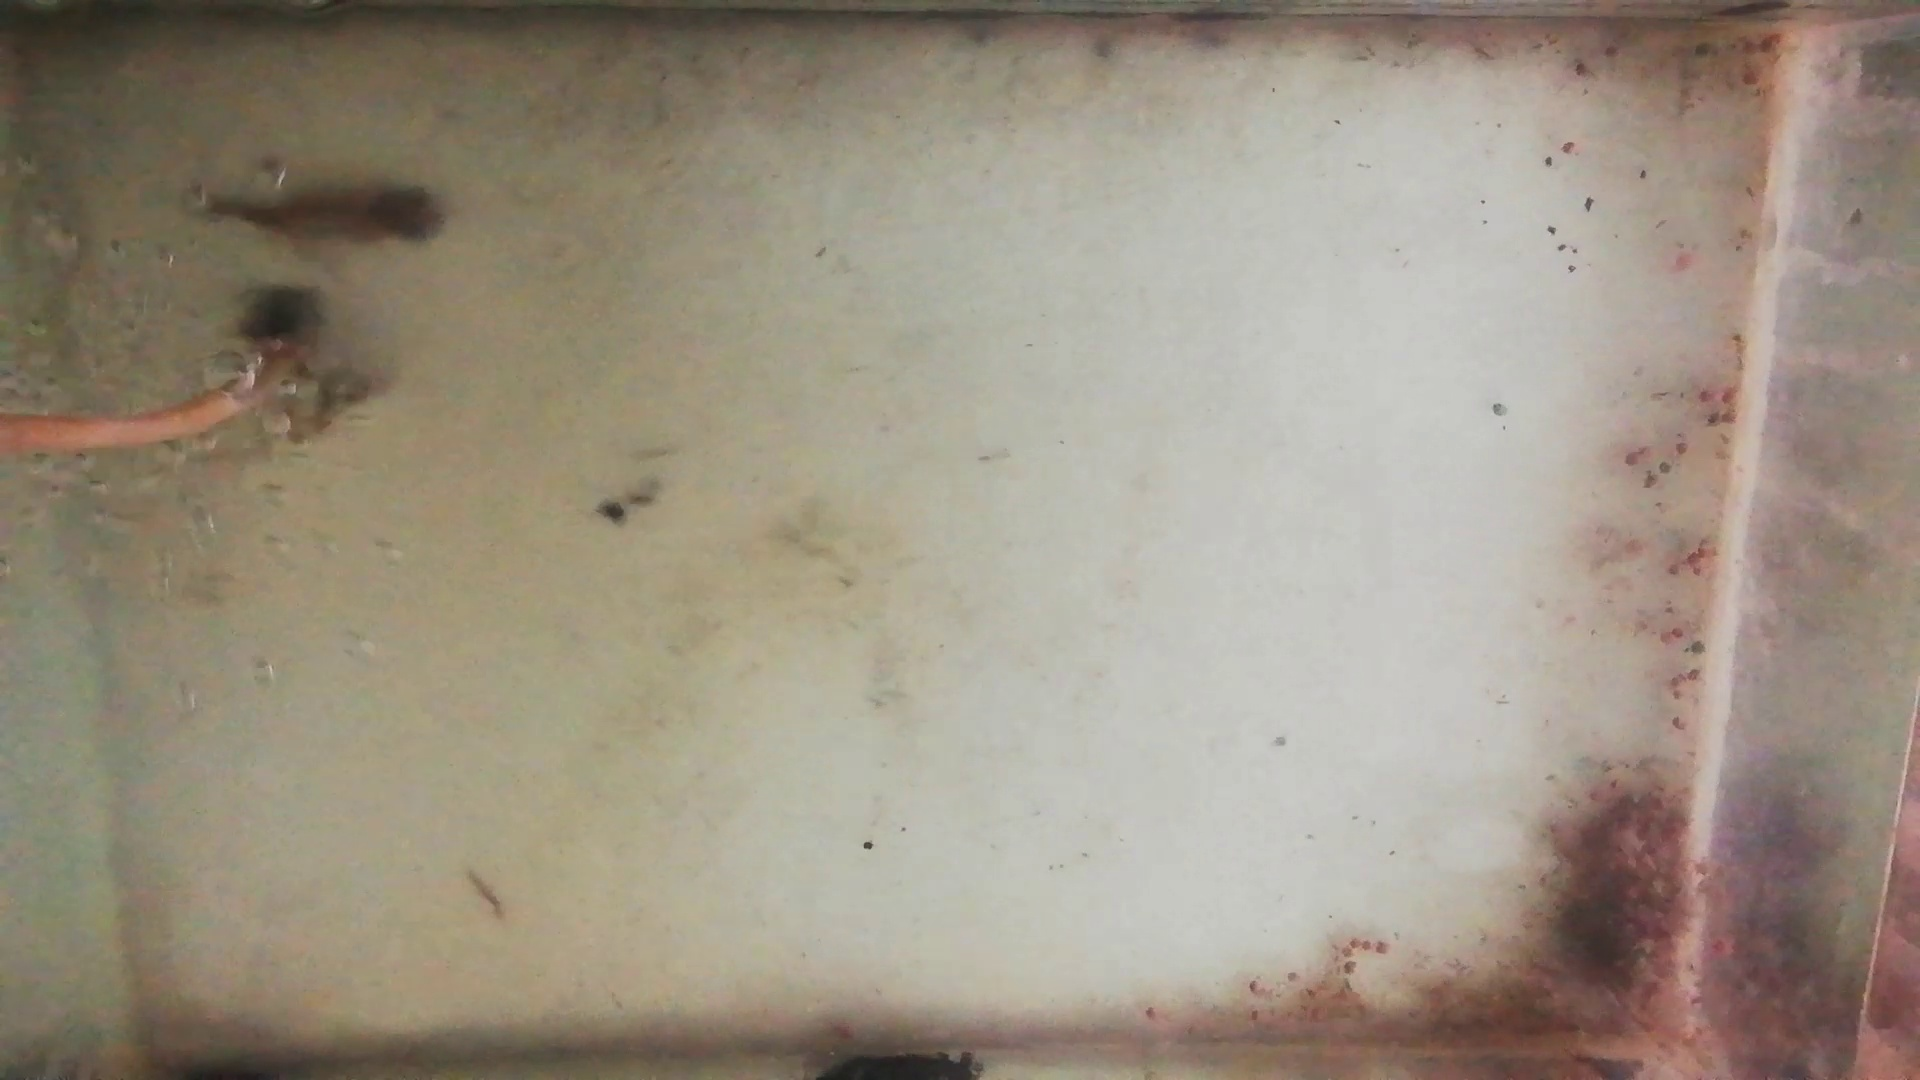fish: (203, 181, 454, 258), (266, 368, 407, 439)
